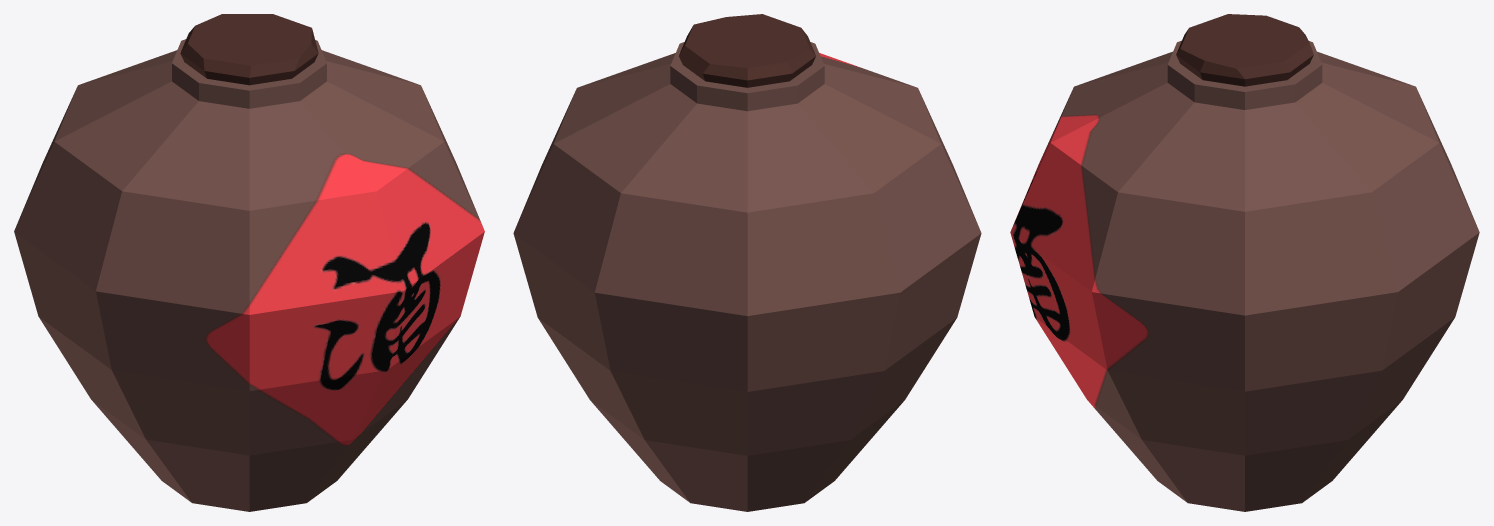
File: urn01.fbx
3 views of the same model, side by side, from view 1: azimuth 30°, elevation 25°; view 2: azimuth 150°, elevation 25°; view 3: azimuth 270°, elevation 25° (orthographic).
Visible parts, largest first — view 1: urn01; view 2: urn01; view 3: urn01.
Boxes of the visible parts, x1,y1,x2,y2 form: urn01: (14, 14, 484, 511); urn01: (513, 14, 981, 511); urn01: (1010, 14, 1479, 511).
Size of the model in its own units: 0.3418 by 0.354 by 0.347.
